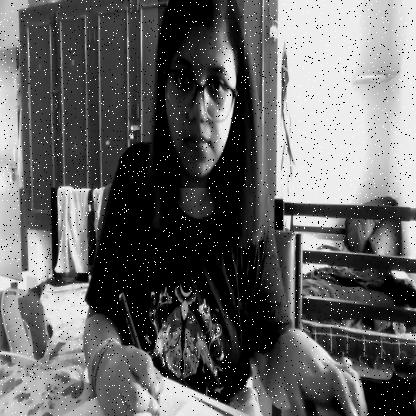Normal: (158, 0, 244, 188)
